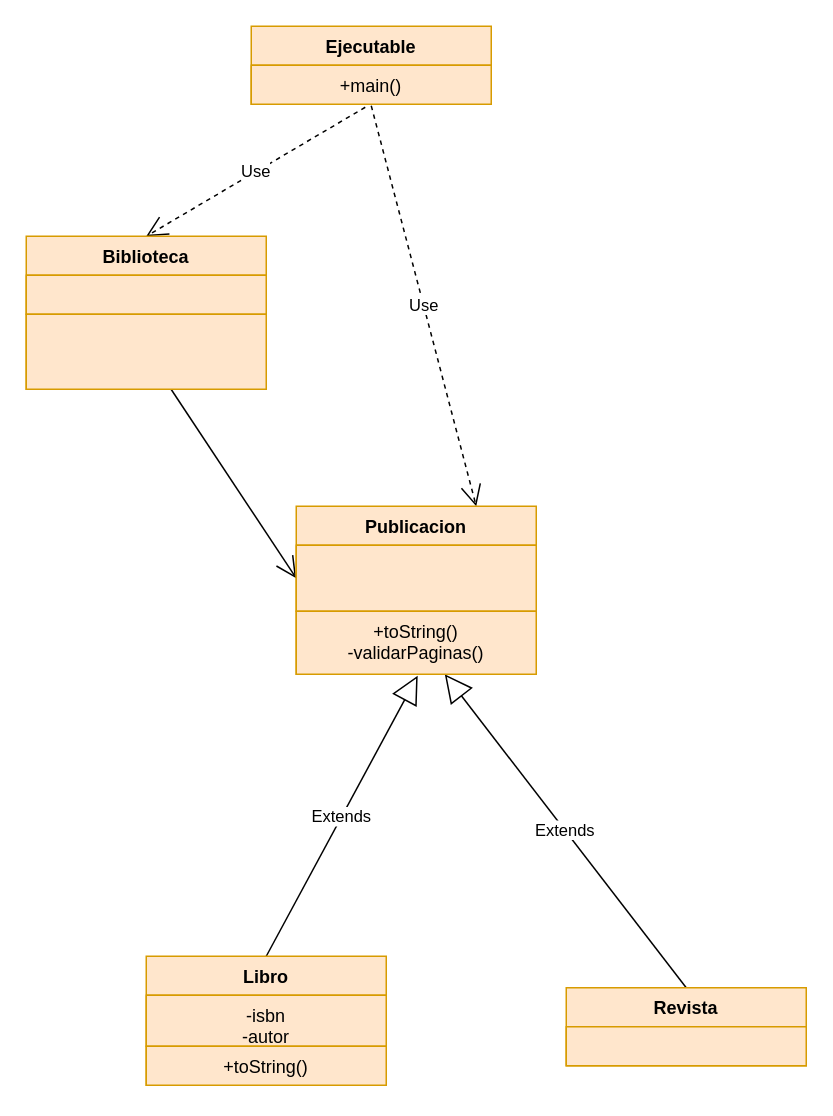
Some shapes in this 833 by 1116 pixel diagram are drawn without their labels. Each missing label, with the centre of its shape:
"+agregarLibro() +mostrarListado()" belongs at pixel 145 351.
"-codigo" belongs at pixel 685 1045.
"-estanteria" belongs at pixel 145 294.
"-titulo paginas" belongs at pixel 415 577.
